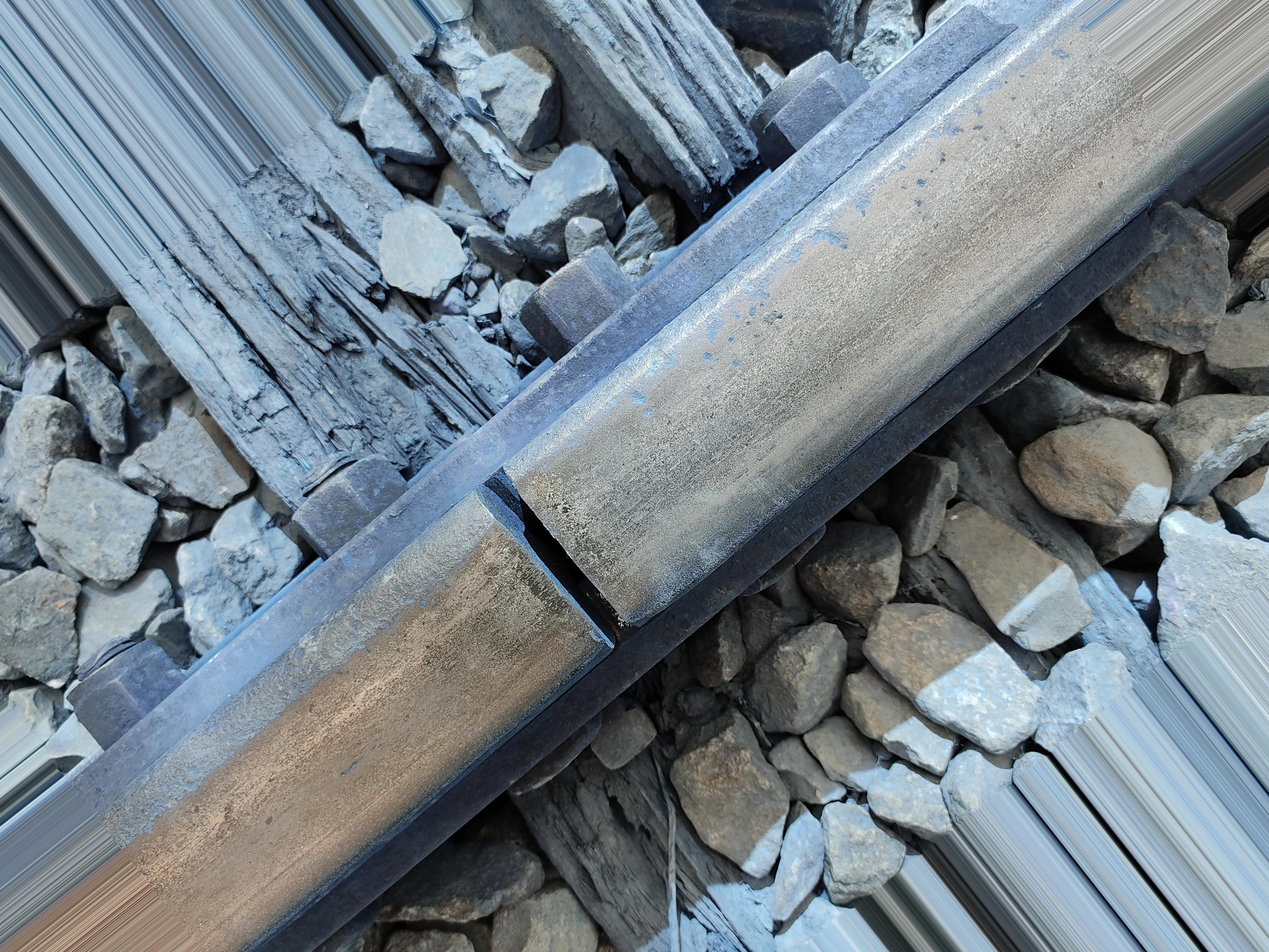tracks_fault: (373, 391, 783, 807)
